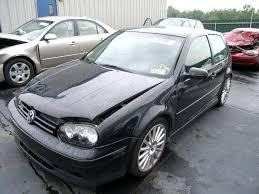boot-dent: (29, 67, 142, 120)
